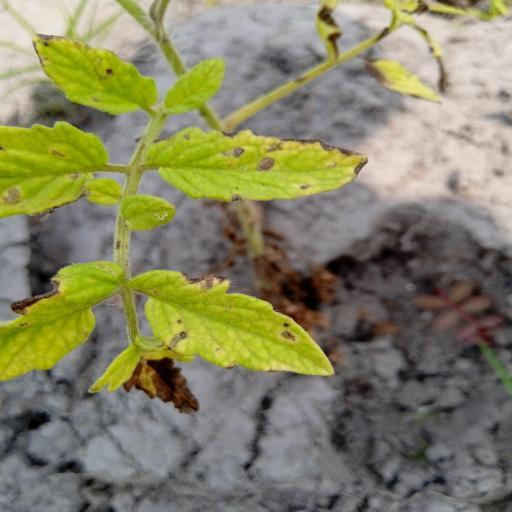Tomato_Brown_Spots: (135, 266, 336, 379), (145, 124, 372, 204), (0, 254, 128, 380), (0, 112, 122, 224), (30, 30, 163, 116)
